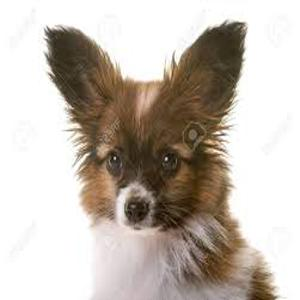yell: (44, 21, 282, 300)
